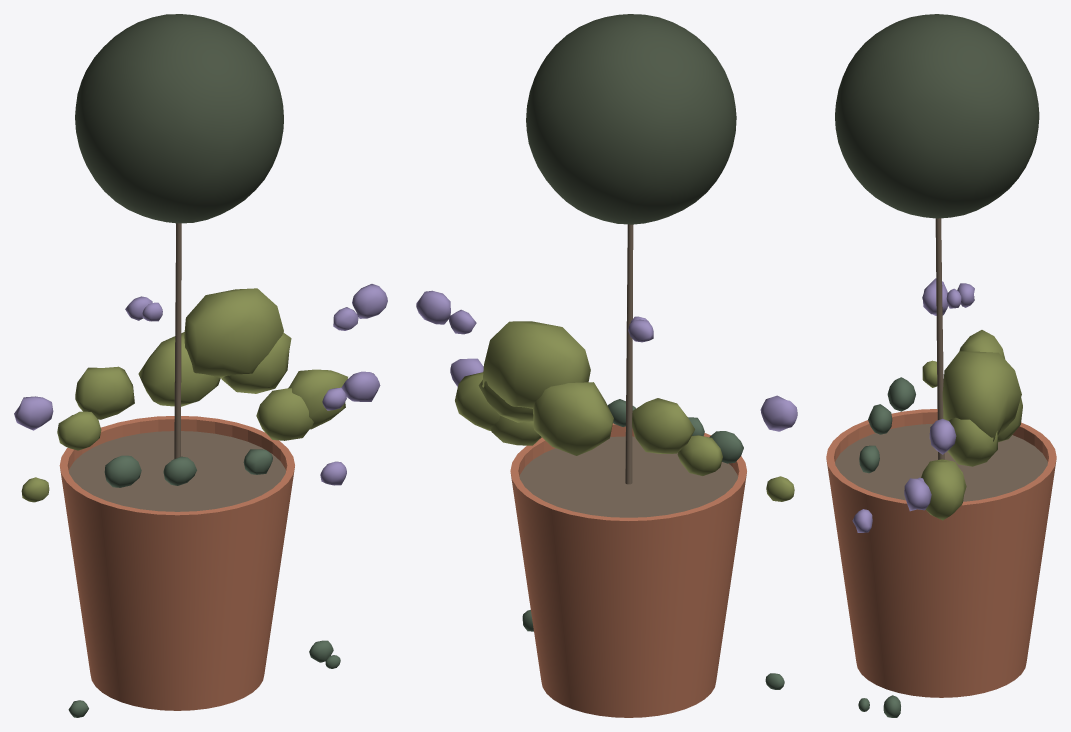
The model's file is NPR_07_2041__MOD__VegetationElements__Topiary__FlowerPotStandard__Var-01__.glb.
3 renders of one model, left to right at view 1: azimuth 30°, elevation 25°; view 2: azimuth 150°, elevation 25°; view 3: azimuth 270°, elevation 25°, orthographic. The views are drawn at different scales.
Parts seen in each view (by area): view 1: NPR_07_2041__MOD__VegetationElements__Topiary__FlowerPotStan; view 2: NPR_07_2041__MOD__VegetationElements__Topiary__FlowerPotStan; view 3: NPR_07_2041__MOD__VegetationElements__Topiary__FlowerPotStan.
Part boxes in pixels (x1,y1,x2,y2): NPR_07_2041__MOD__VegetationElements__Topiary__FlowerPotStan: (14, 14, 387, 717); NPR_07_2041__MOD__VegetationElements__Topiary__FlowerPotStan: (416, 14, 797, 717); NPR_07_2041__MOD__VegetationElements__Topiary__FlowerPotStan: (826, 14, 1056, 717).
Size of the model in its own units: 0.9927 by 1.65 by 0.54.
